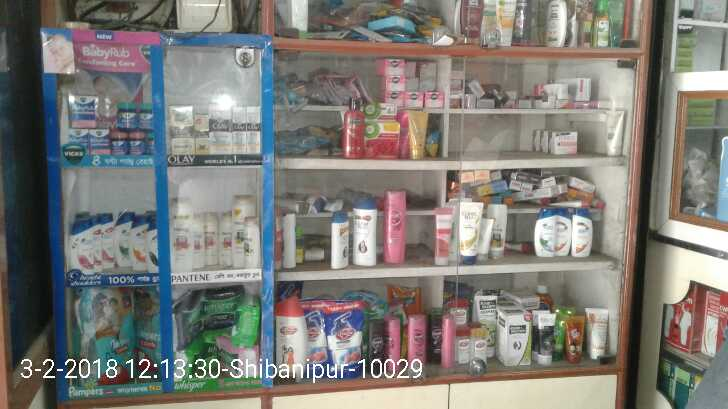vicks: (68, 94, 153, 156)
